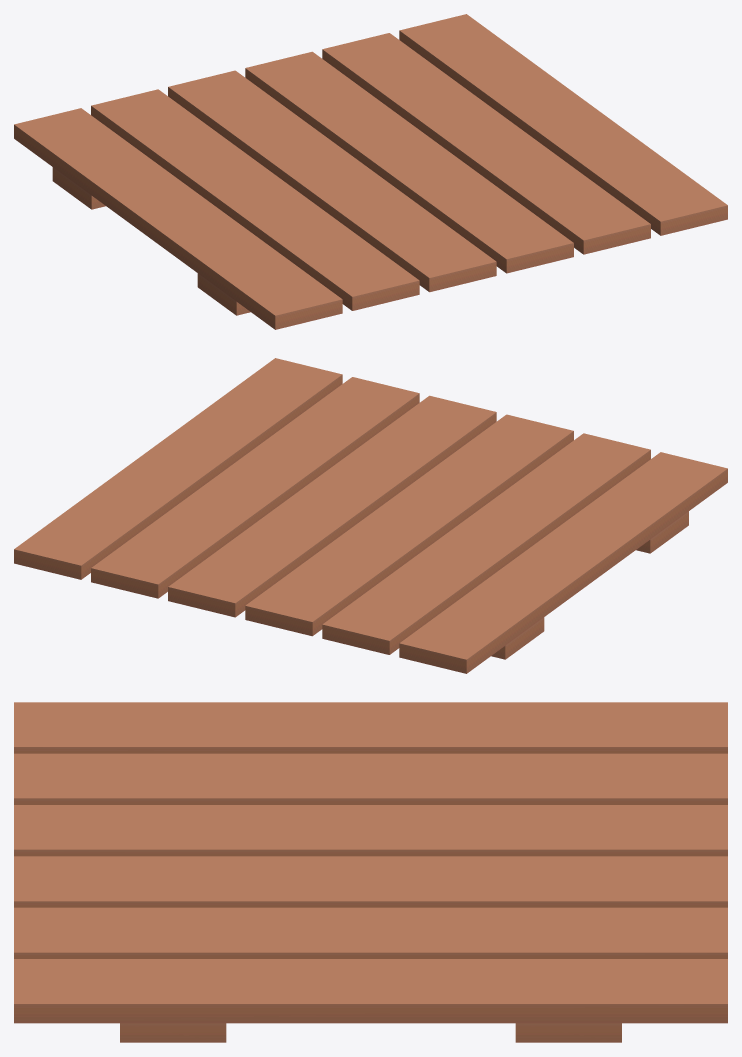
The model's file is planks.glb.
3 renders of one model, top to bottom at view 1: azimuth 30°, elevation 25°; view 2: azimuth 150°, elevation 25°; view 3: azimuth 270°, elevation 25°, orthographic. The views are drawn at different scales.
Parts seen in each view (by area): view 1: planks; view 2: planks; view 3: planks.
Part boxes in pixels (x1,y1,x2,y2): planks: (14, 14, 727, 329); planks: (14, 358, 727, 673); planks: (14, 702, 727, 1042).
Size of the model in its own units: 1 by 0.06 by 1.
Materials: 1 (1 with a texture image).
